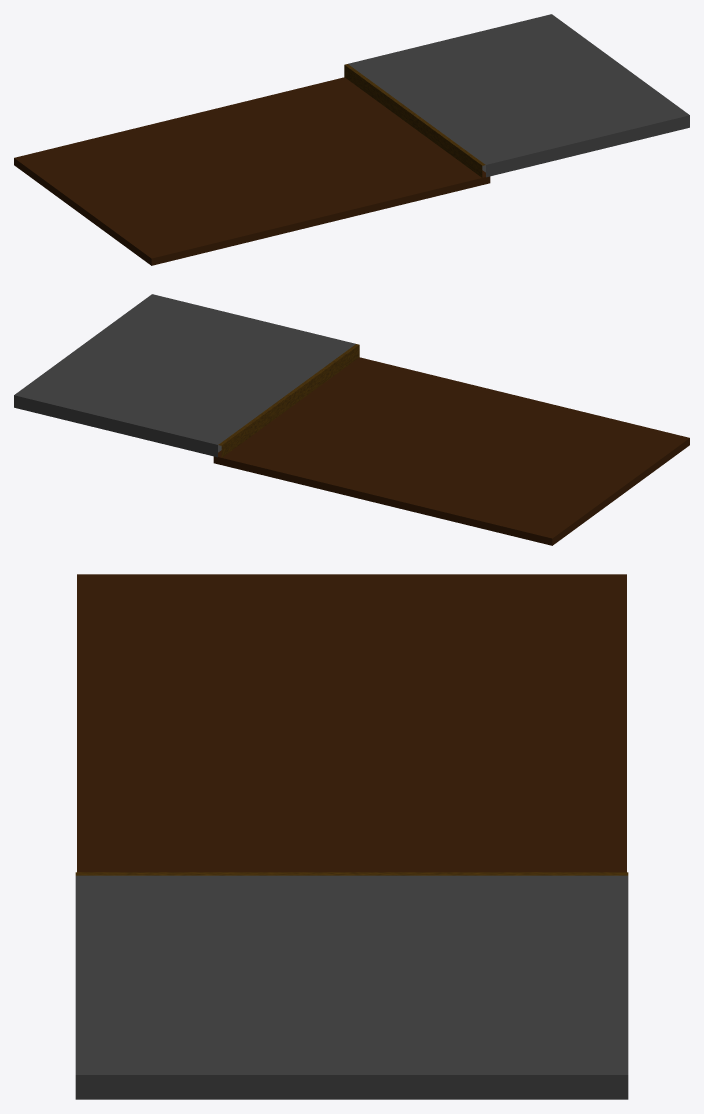
The model's file is church floor.fbx.
The picture shows the model from 3 angles, top to bottom: view 1: azimuth 30°, elevation 25°; view 2: azimuth 150°, elevation 25°; view 3: azimuth 270°, elevation 25°; orthographic projection. The views are drawn at different scales.
Visible parts, largest first — view 1: church floor; view 2: church floor; view 3: church floor.
Boxes of the visible parts, x1=… form: church floor: x1=14, y1=14, x2=689, y2=265; church floor: x1=14, y1=294, x2=689, y2=545; church floor: x1=75, y1=574, x2=628, y2=1099.
Bounding box in the file's own units: 6576 × 229 × 2924.
